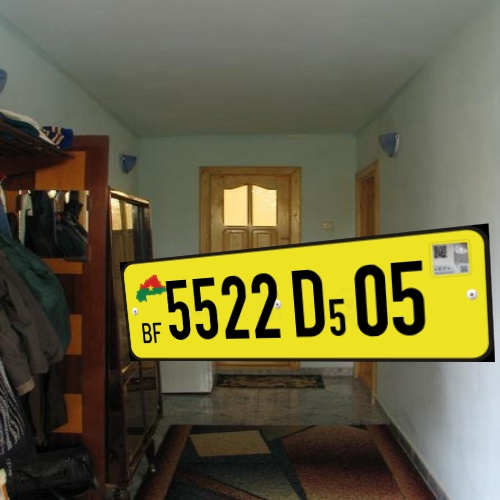plate: (104, 204, 500, 394)
